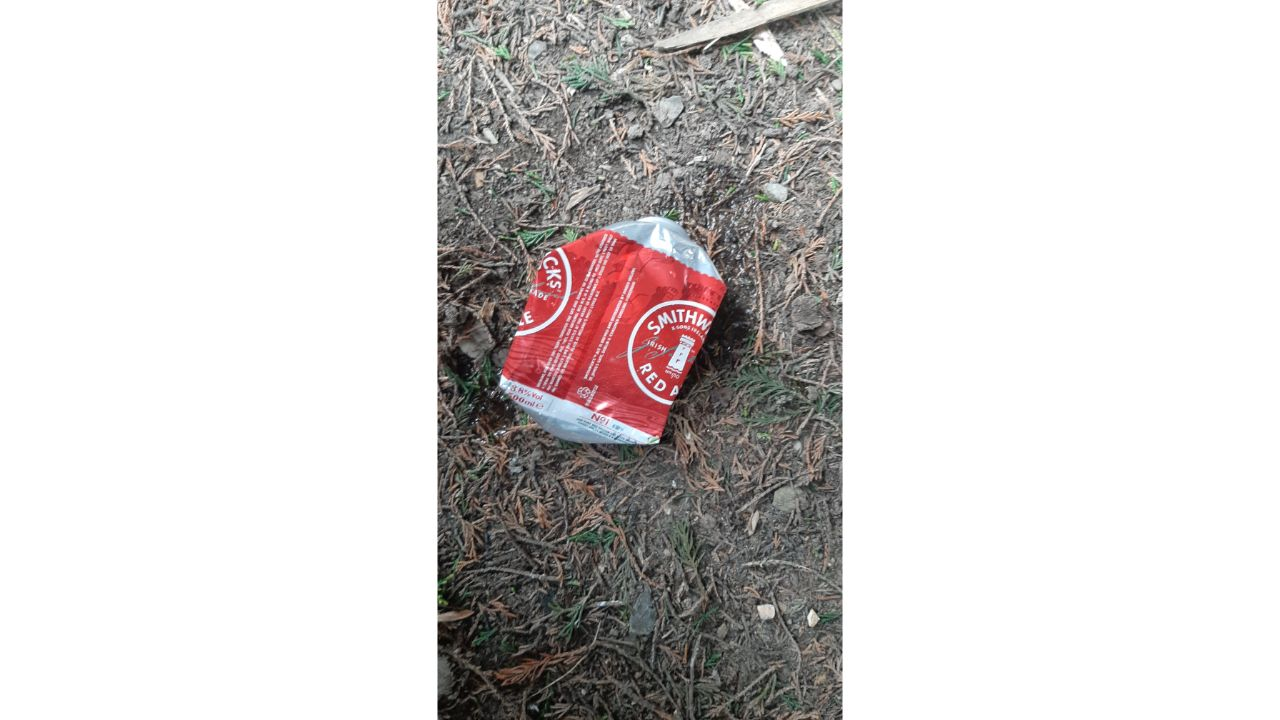Can: (494, 215, 728, 449)
